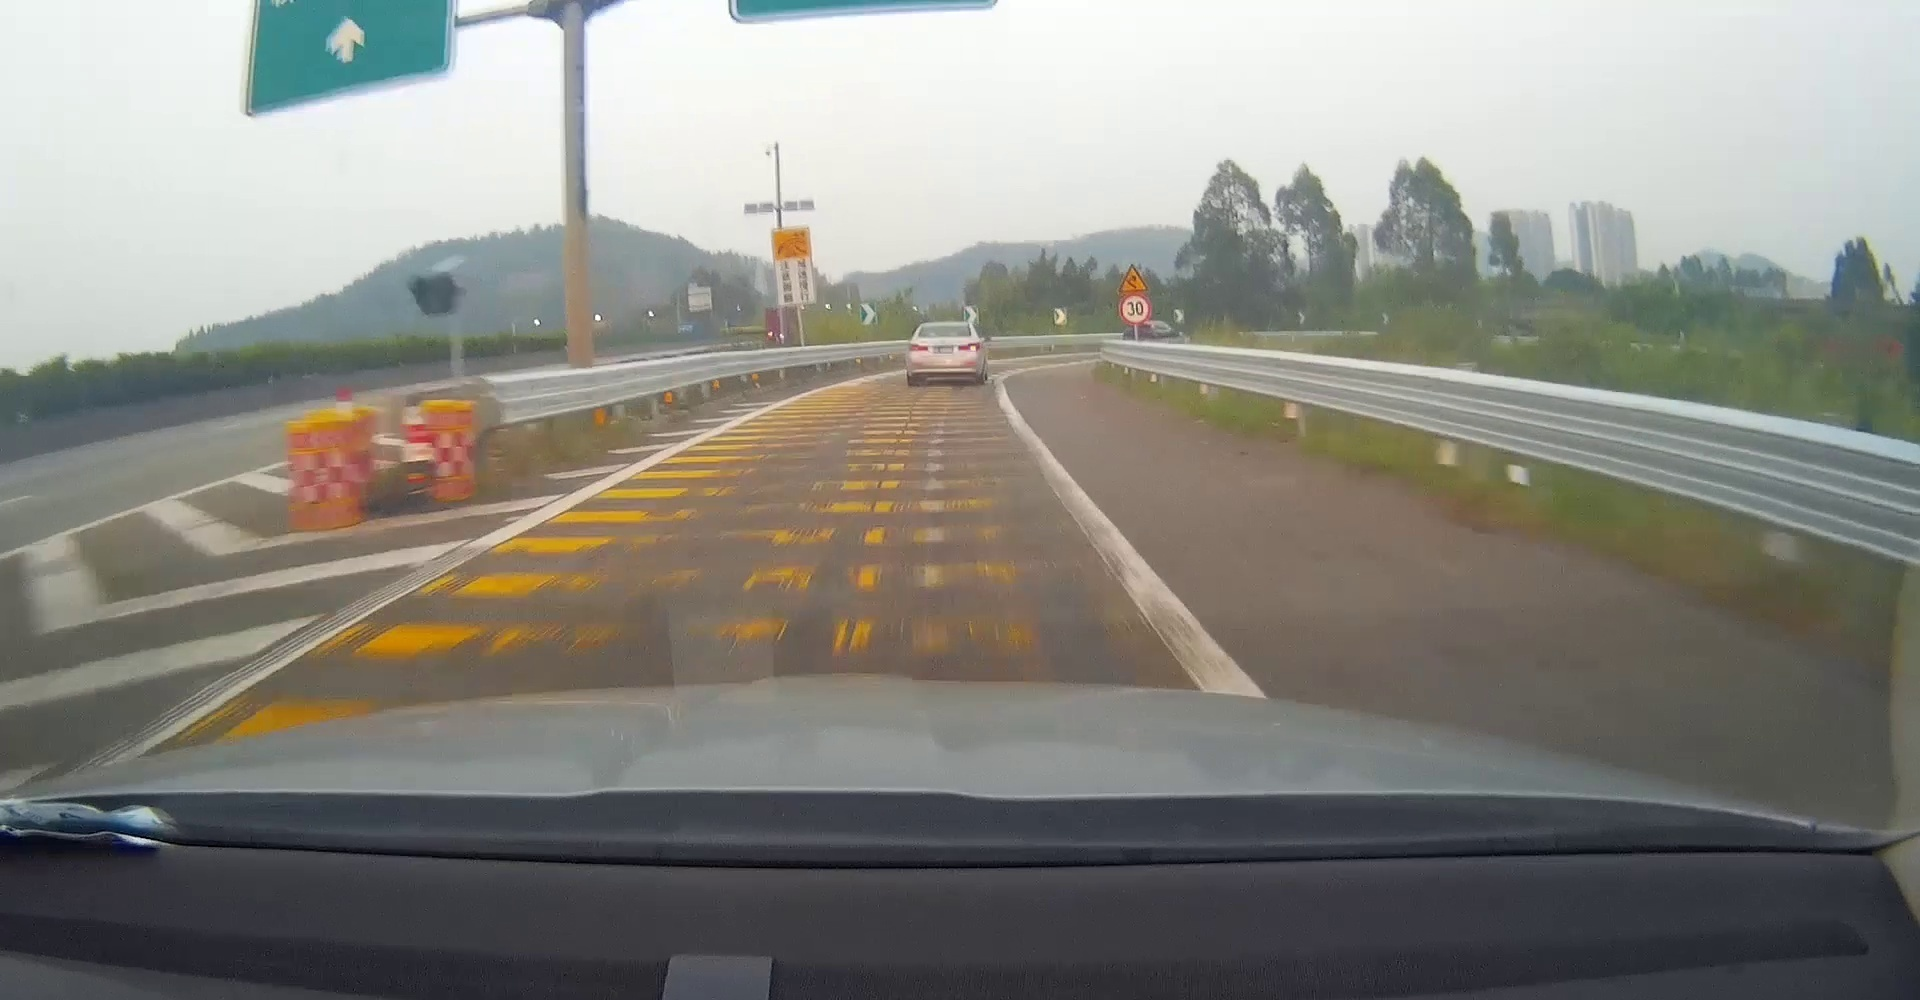L_light: (908, 341, 928, 352)
R_light: (959, 341, 979, 352)
T_light: (940, 325, 952, 327)
day-right: (905, 322, 983, 385)
